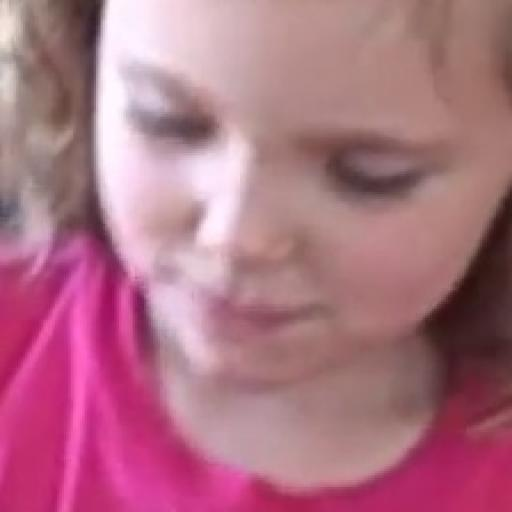Autism: (56, 5, 512, 483)
